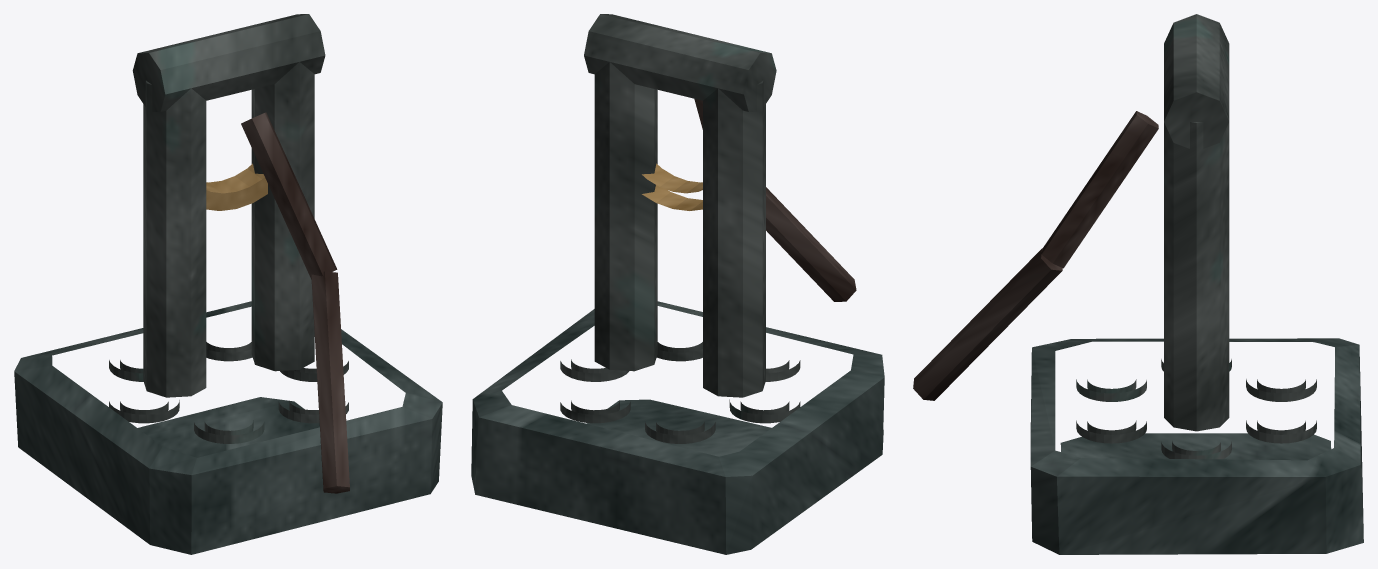
Rendered from 0679_rope_anchor_04.glb.
3 renders of one model, left to right at view 1: azimuth 30°, elevation 25°; view 2: azimuth 150°, elevation 25°; view 3: azimuth 270°, elevation 25°, orthographic.
Visible parts, largest first — view 1: stone_dark, iron, wood_dark, brass; view 2: iron, stone_dark, wood_dark, brass; view 3: stone_dark, iron, wood_dark.
Part boxes in pixels (x1=…): stone_dark: x1=14, y1=301, x2=442, y2=554; iron: x1=109, y1=14, x2=348, y2=443; wood_dark: x1=241, y1=112, x2=349, y2=493; brass: x1=206, y1=163, x2=267, y2=210; iron: x1=560, y1=14, x2=800, y2=443; stone_dark: x1=471, y1=301, x2=884, y2=554; wood_dark: x1=694, y1=99, x2=856, y2=301; brass: x1=642, y1=163, x2=702, y2=210; stone_dark: x1=1030, y1=338, x2=1363, y2=554; iron: x1=1076, y1=14, x2=1316, y2=459; wood_dark: x1=913, y1=111, x2=1158, y2=400.
Size of the model in its own units: 1.22 by 1.78 by 1.66.
Materials: 4 (4 with a texture image).
